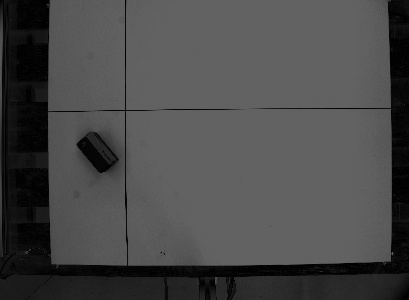b3: (73, 128, 120, 174)
